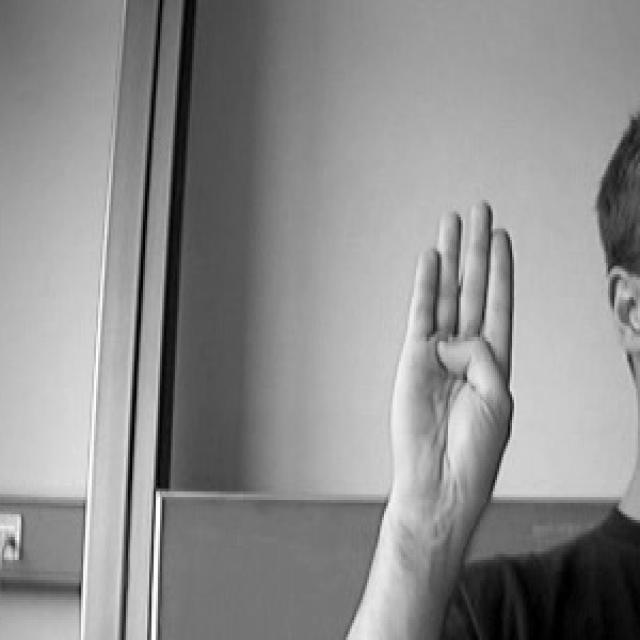B: (346, 184, 549, 558)
